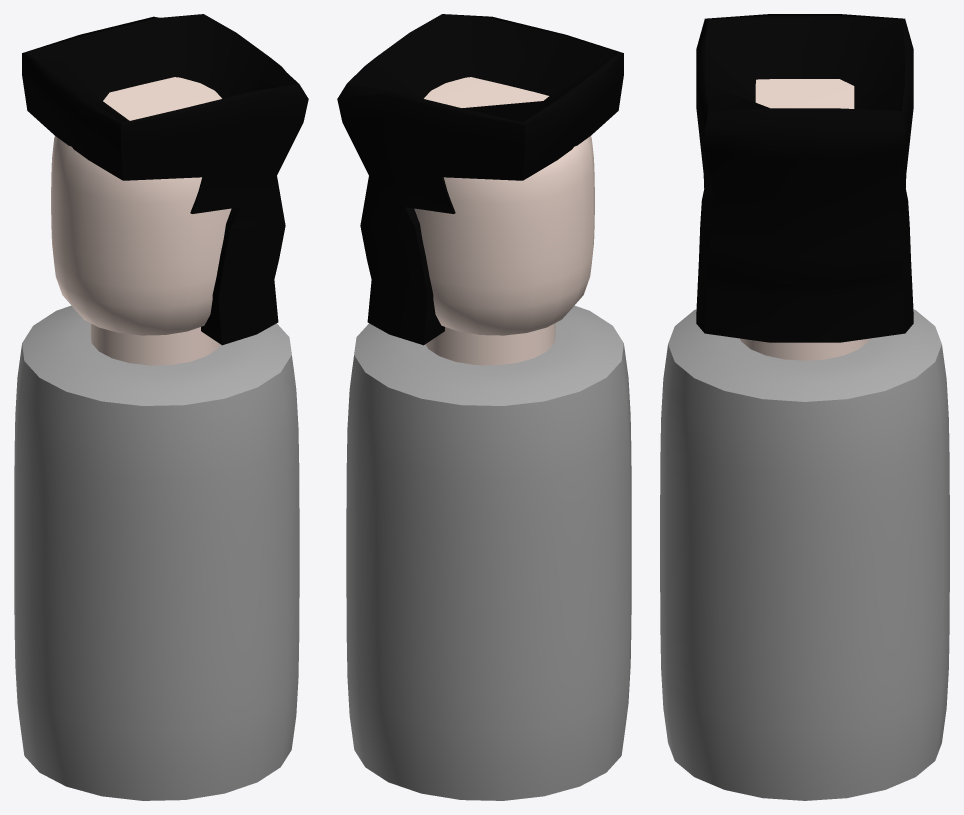
The model's file is hair3.fbx.
3 views of the same model, side by side, from view 1: azimuth 30°, elevation 25°; view 2: azimuth 150°, elevation 25°; view 3: azimuth 270°, elevation 25° (orthographic).
Visible parts, largest first — view 1: pCylinder2, pCube1, pCylinder1, pCylinder3; view 2: pCylinder2, pCube1, pCylinder1, pCylinder3; view 3: pCylinder2, pCube1, pCylinder1, pCylinder3.
Boxes of the visible parts, x1,y1,x2,y2 form: pCylinder2: (14, 305, 299, 800); pCube1: (22, 14, 308, 345); pCylinder1: (51, 77, 231, 335); pCylinder3: (90, 323, 220, 365); pCylinder2: (346, 305, 631, 800); pCube1: (337, 14, 623, 345); pCylinder1: (414, 77, 594, 335); pCylinder3: (425, 323, 555, 365); pCylinder2: (660, 309, 949, 800); pCube1: (696, 14, 913, 342); pCylinder1: (755, 79, 854, 108); pCylinder3: (740, 338, 869, 360).
Size of the model in its own units: 2.03 by 5.39 by 2.03.
